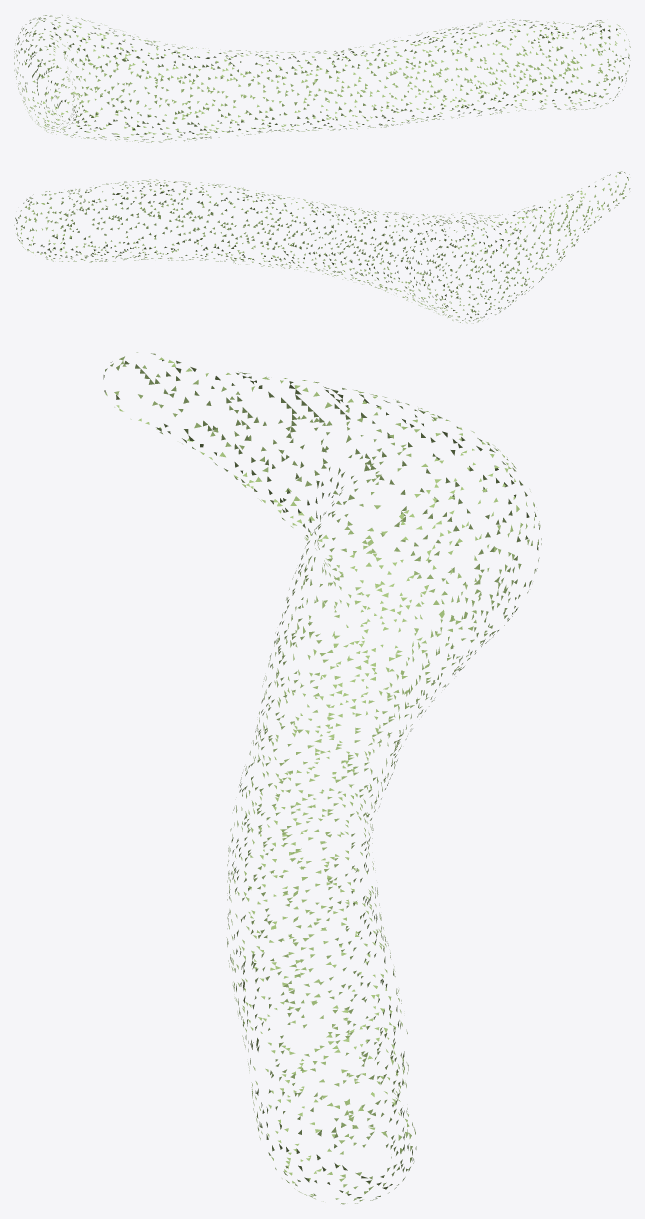
The model's file is morph_012.glb.
The picture shows the model from 3 angles, top to bottom: view 1: azimuth 30°, elevation 25°; view 2: azimuth 150°, elevation 25°; view 3: azimuth 270°, elevation 25°; orthographic projection. The views are drawn at different scales.
Bounding box in the file's own units: 142 × 43.23 × 49.12.
